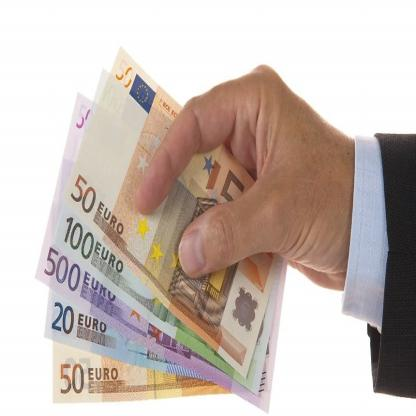billete: (33, 42, 288, 412)
